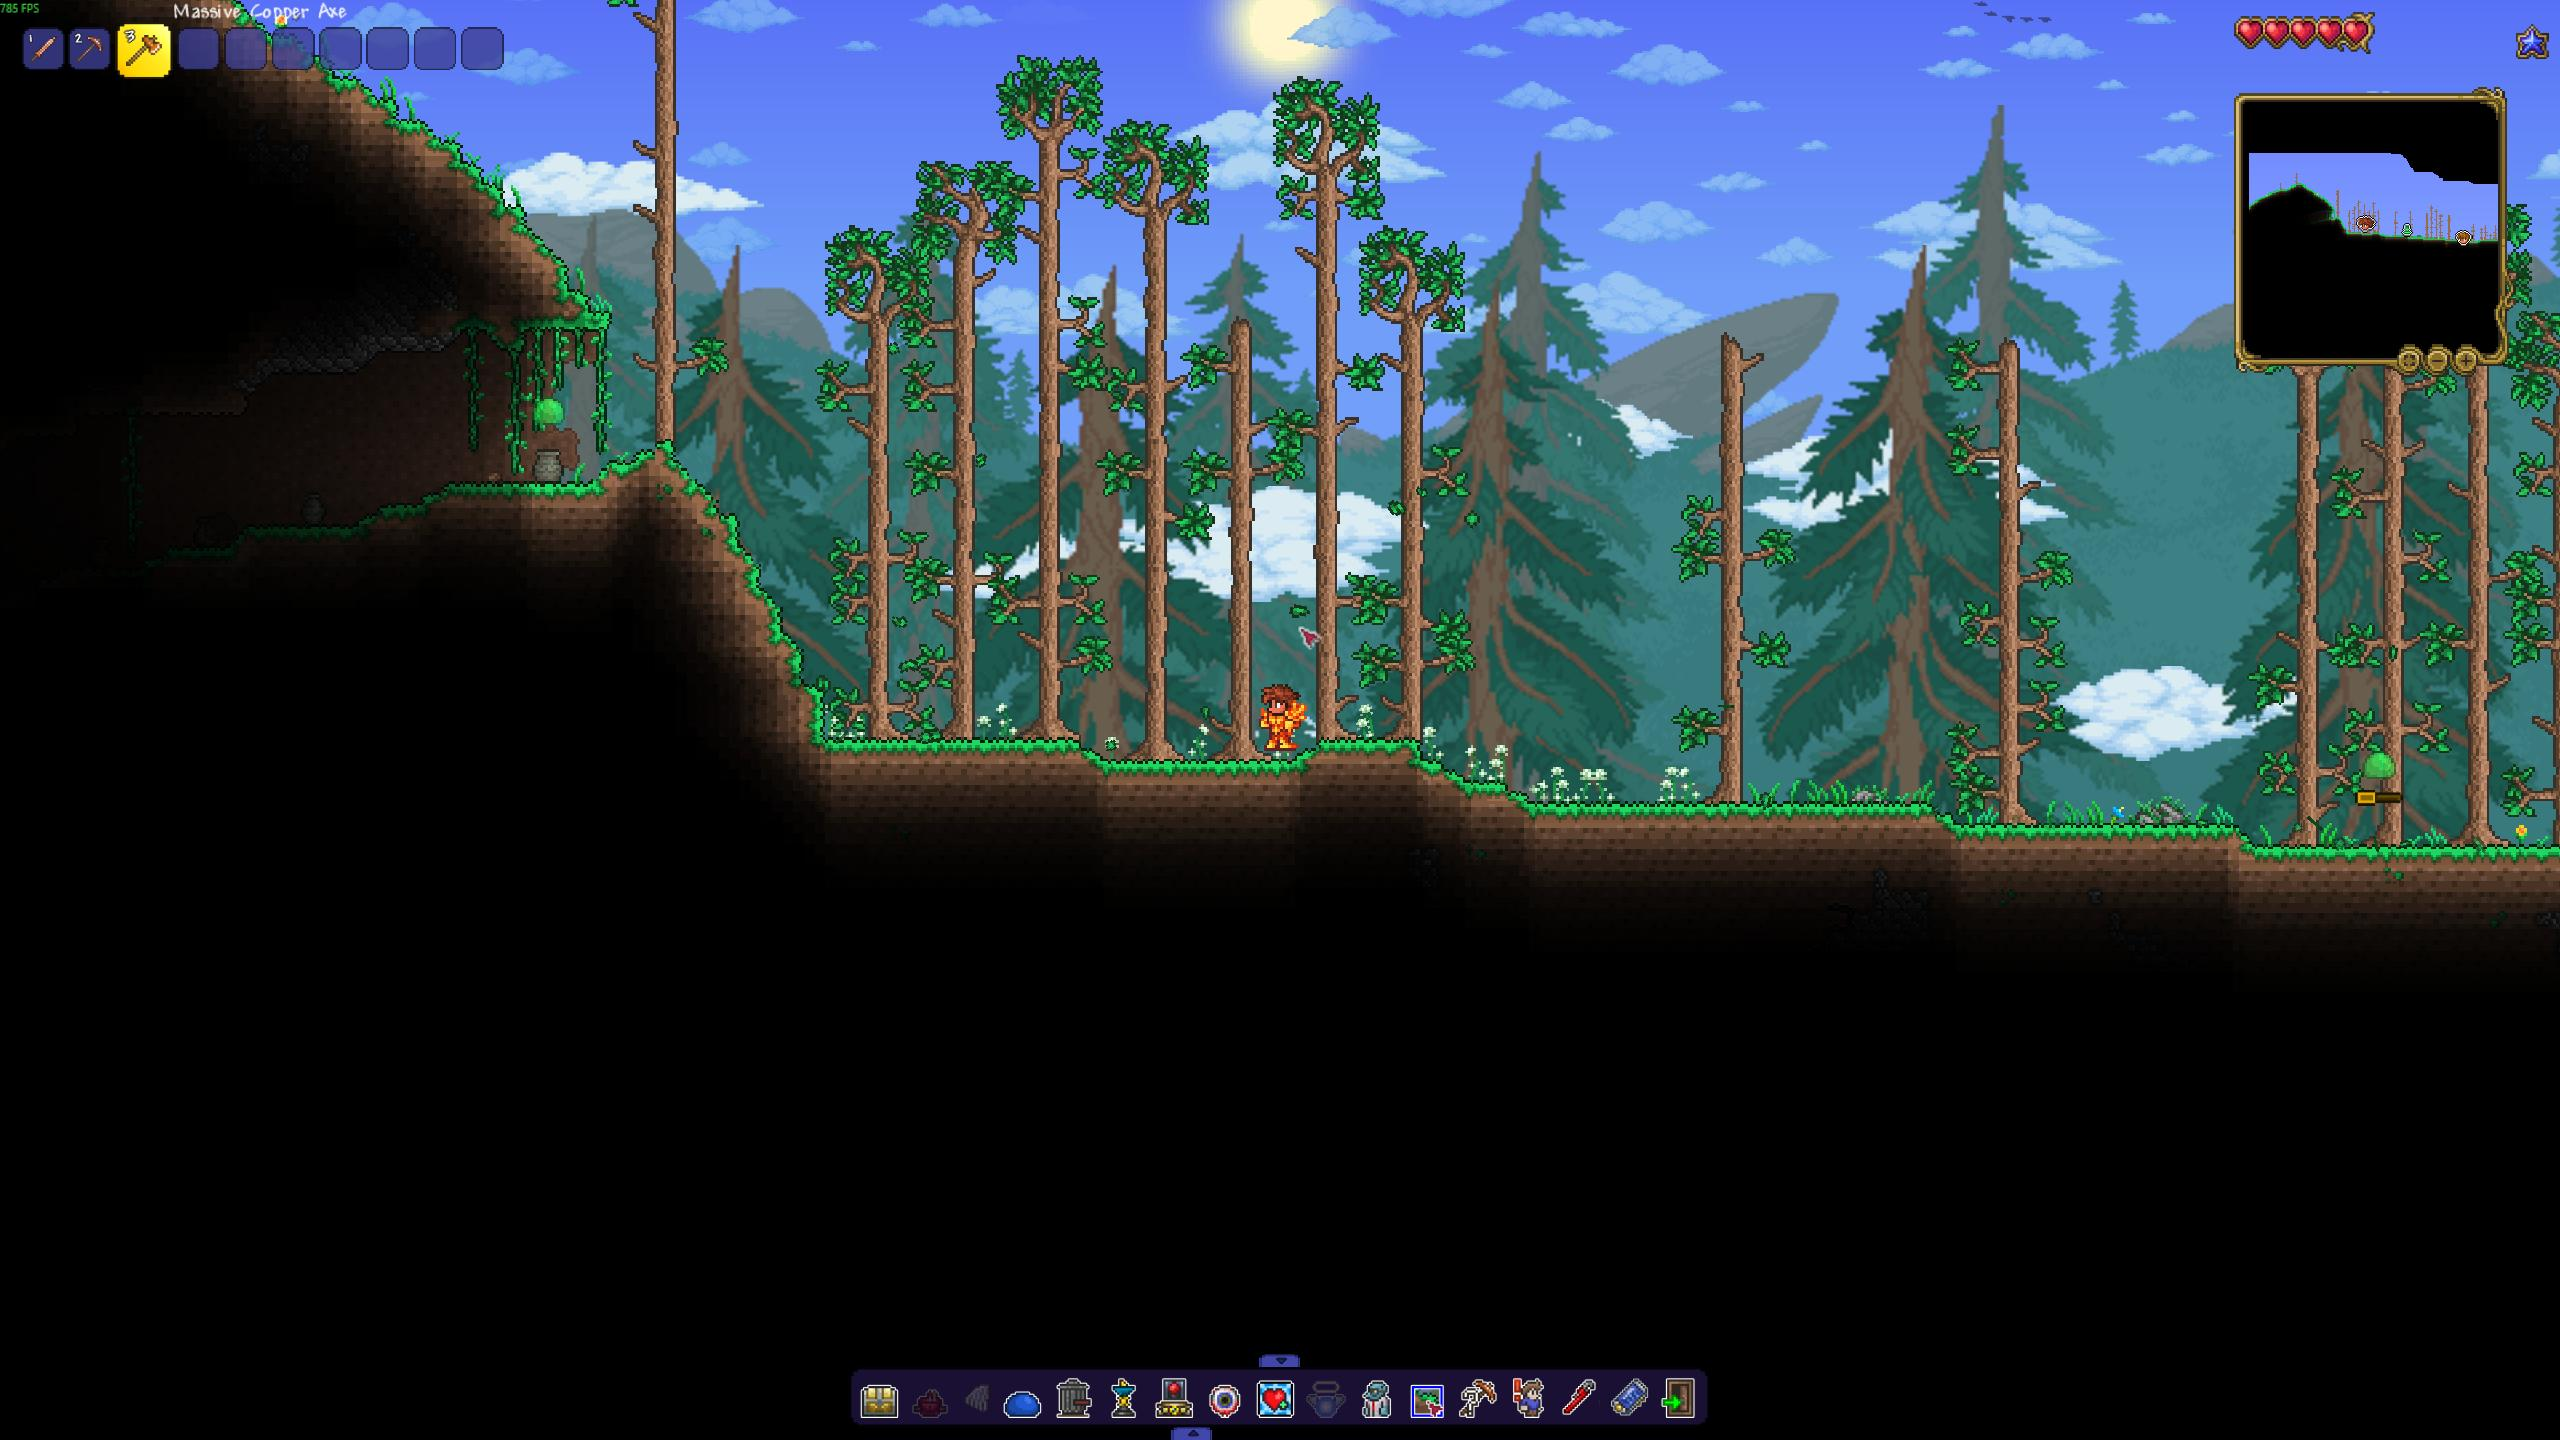Green Slime: (531, 396, 568, 424), (2360, 753, 2396, 779)
